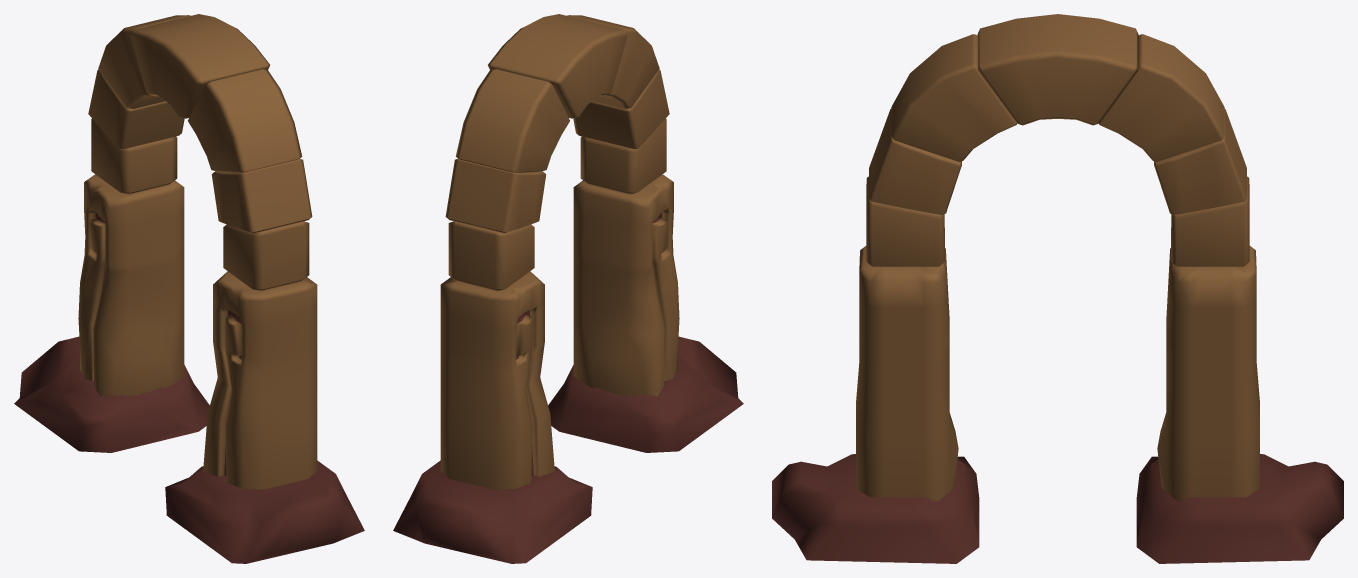
Rendered from SM_arch_A.fbx.
The picture shows the model from 3 angles, left to right: view 1: azimuth 30°, elevation 25°; view 2: azimuth 150°, elevation 25°; view 3: azimuth 270°, elevation 25°; orthographic projection. The views are drawn at different scales.
Visible parts, largest first — view 1: pCube37; view 2: pCube37; view 3: pCube37.
Part boxes in pixels (x1=…): pCube37: x1=14, y1=14, x2=364, y2=563; pCube37: x1=393, y1=14, x2=743, y2=563; pCube37: x1=772, y1=14, x2=1343, y2=563.
Size of the model in its own units: 600 by 1753 by 1828.
